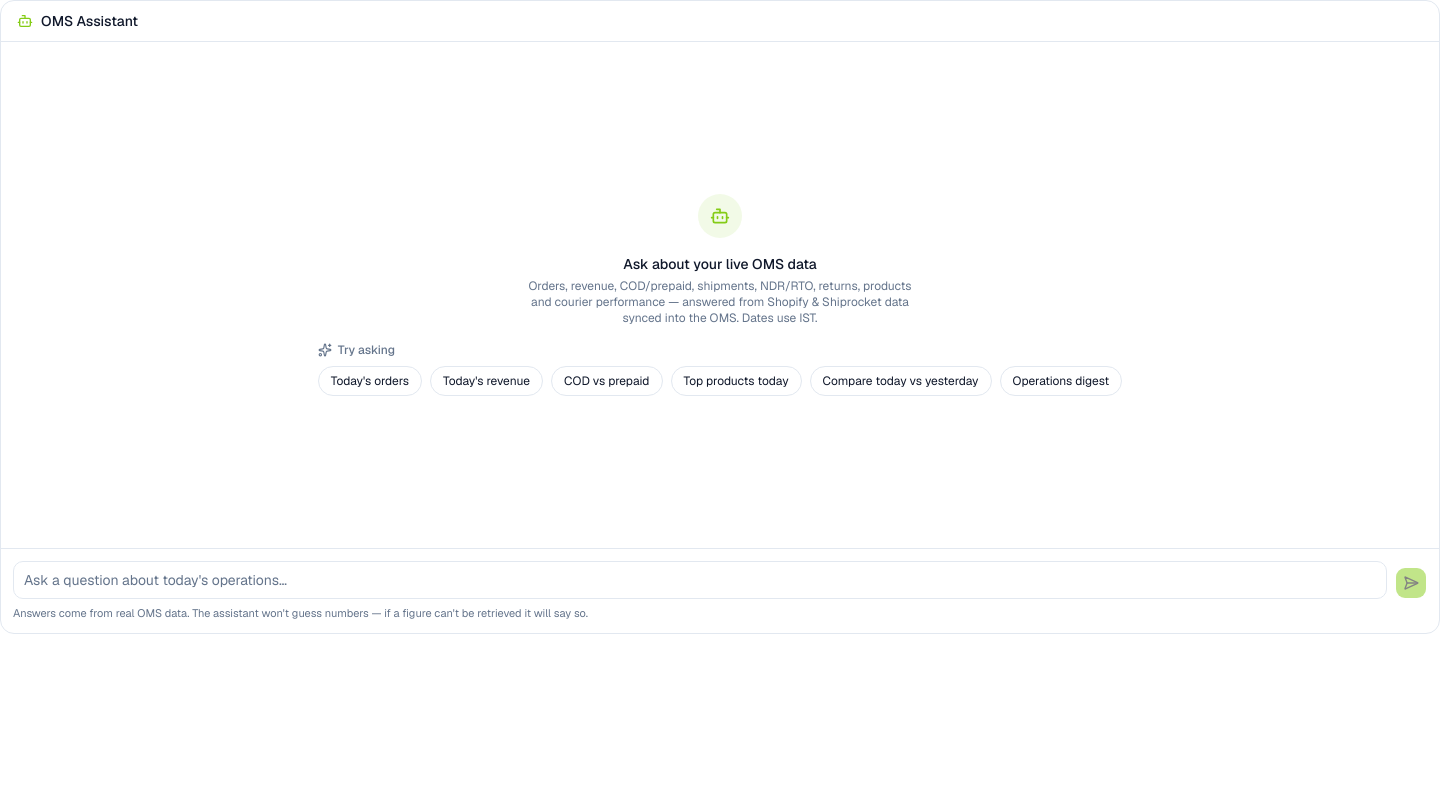
Test case: ChatPanel › sends a question and renders the grounded answer with its data source
Step 1. Type "How many orders today?" into the text box named "Message the OMS assistant" → (700, 580), box [13, 560, 1387, 598]
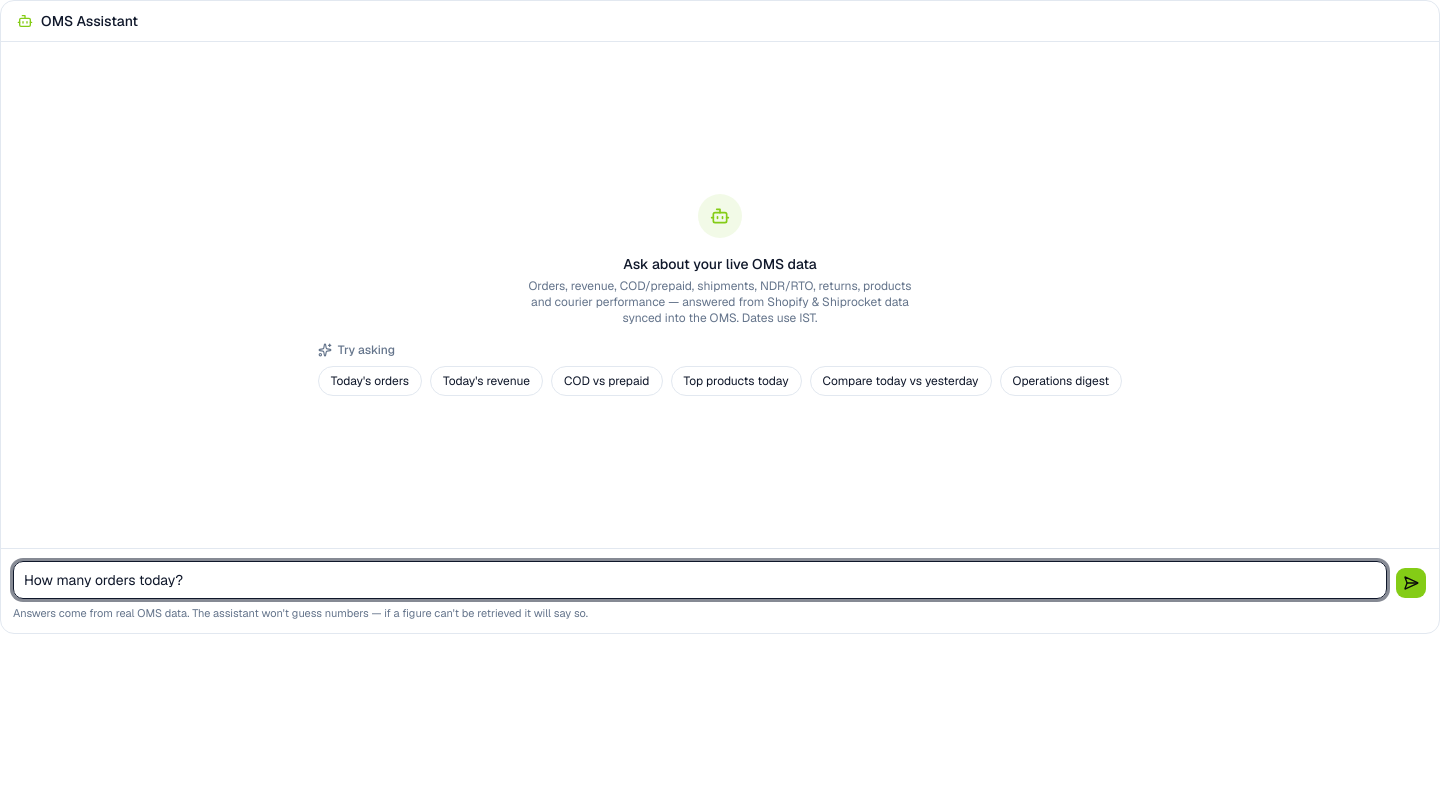
Step 2. Click the button named "Send" → (1411, 582), box [1395, 566, 1427, 598]
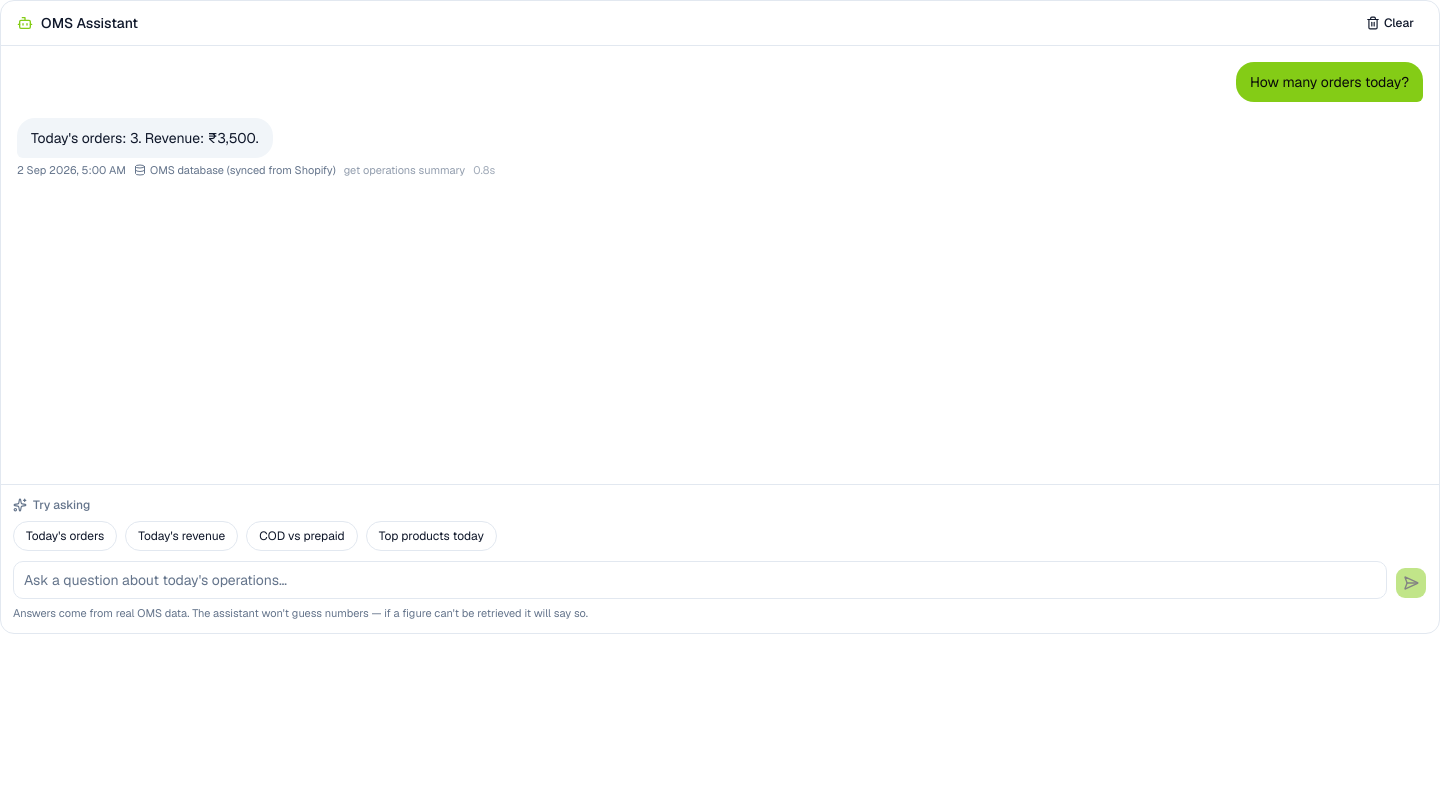
Now the text "How many orders today?" is shown, box [1236, 62, 1423, 102]
Now the text "Today's orders: 3. Revenue: ₹3,500." is shown, box [17, 118, 273, 158]
Now the text "OMS database (synced from Shopify)" is shown, box [134, 162, 336, 178]
